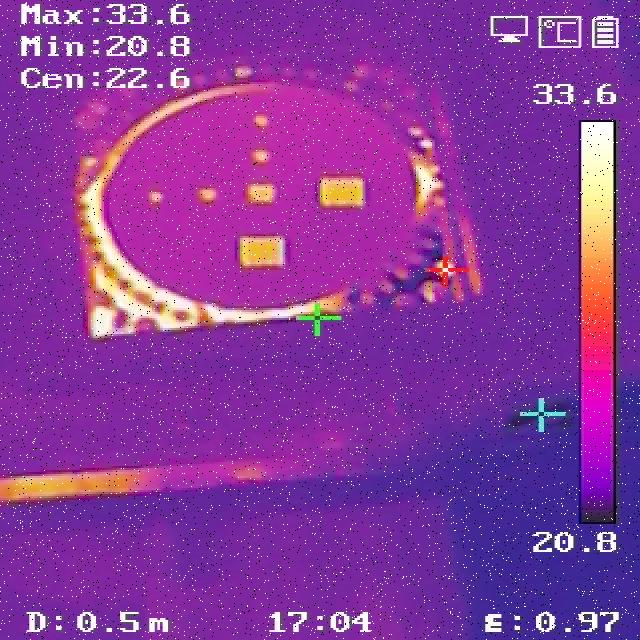Indistinguishable 4-bar target: (323, 178, 365, 204), (251, 186, 273, 202), (200, 192, 215, 201), (259, 151, 269, 160), (260, 117, 268, 125), (149, 193, 159, 199)
threshold 4-bar target: (240, 239, 285, 265)
